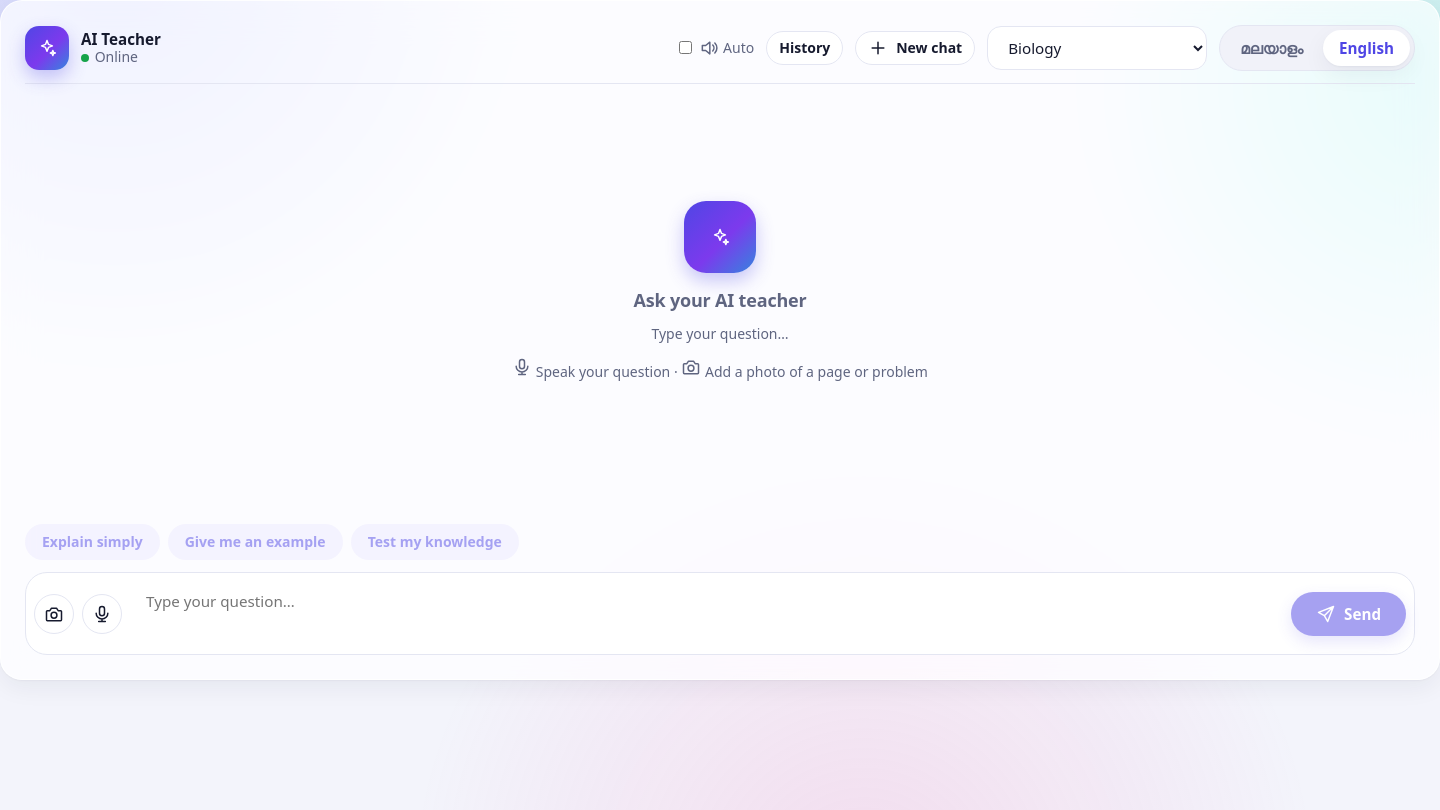
AI teacher streaming, photos and feedback › shows the answer as it streams, then the final reply, and sends a thumbs down with a reason
Type "How do plants eat?" into the text box labelled "Type your question…".
click(707, 614); type("How do plants eat?")  # box [130,581,1283,646]
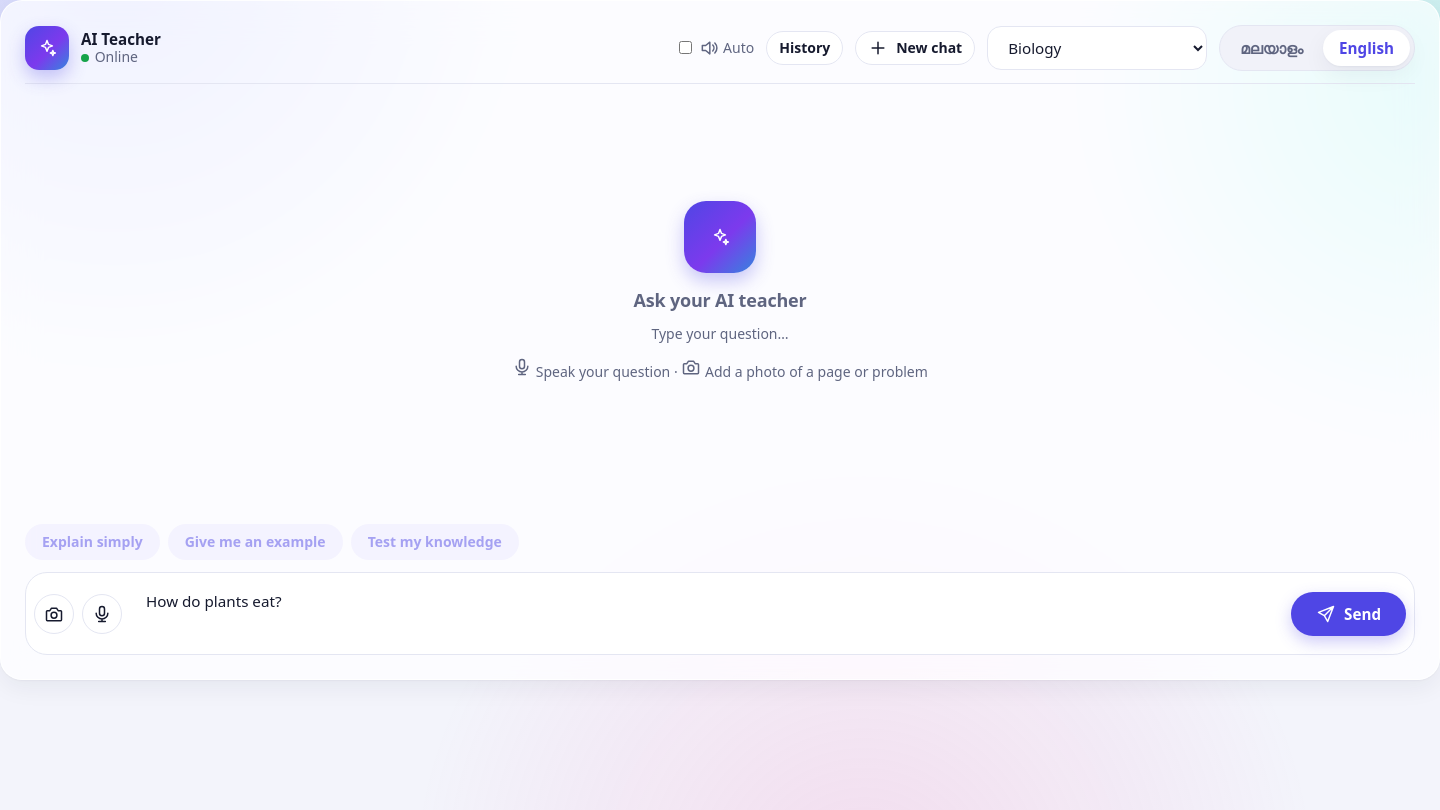
Click the button "Send".
click(1349, 614)  # box [1291,592,1406,636]
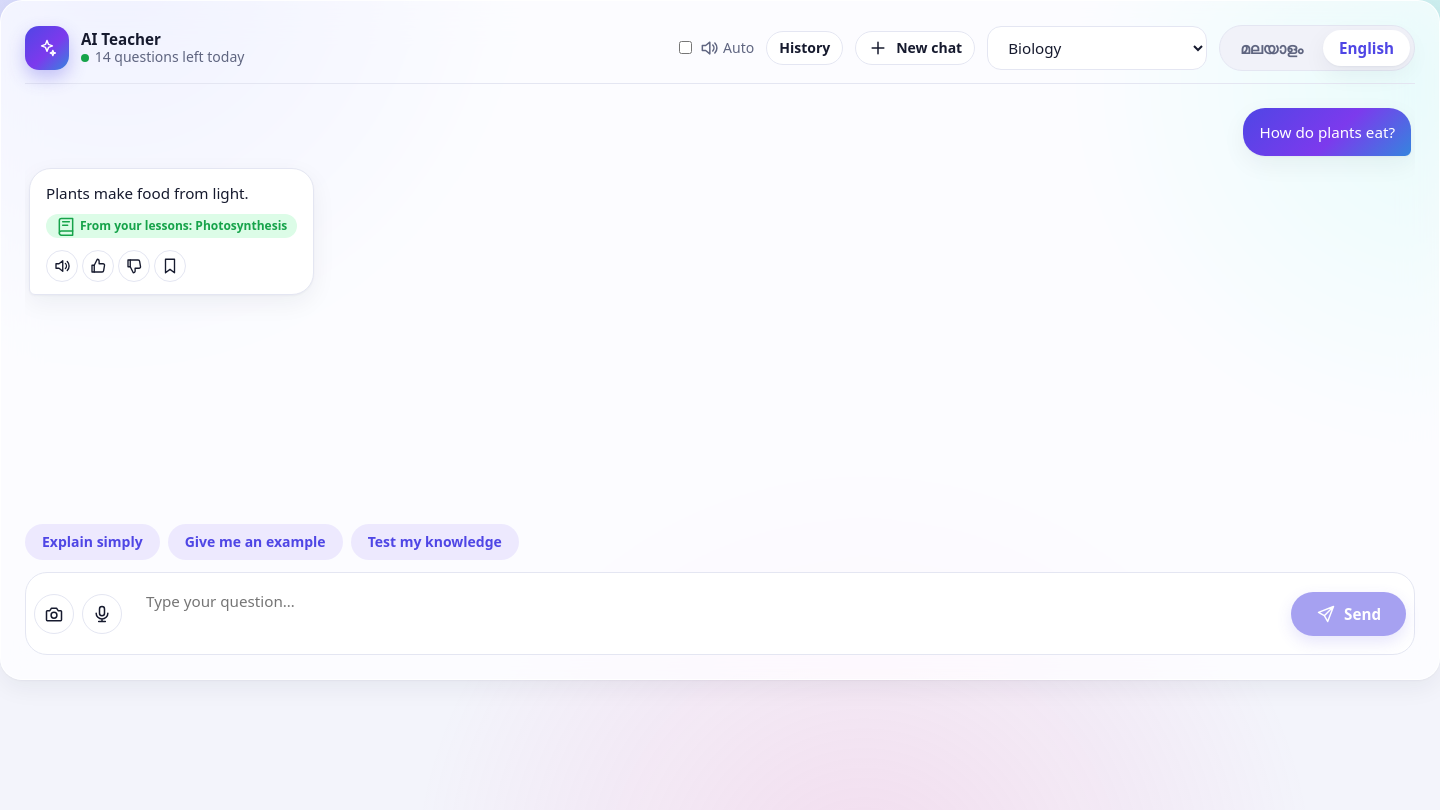
Expected: the text "Plants make food from light." is shown, [46,183,249,203]
Expected: the text "From your lessons: Photosynthesis" is shown, [46,214,297,238]
Expected: the text "14 questions left today" is shown, [81,49,244,66]
Click the button named "Not helpful".
click(134, 266)  # box [118,250,150,282]
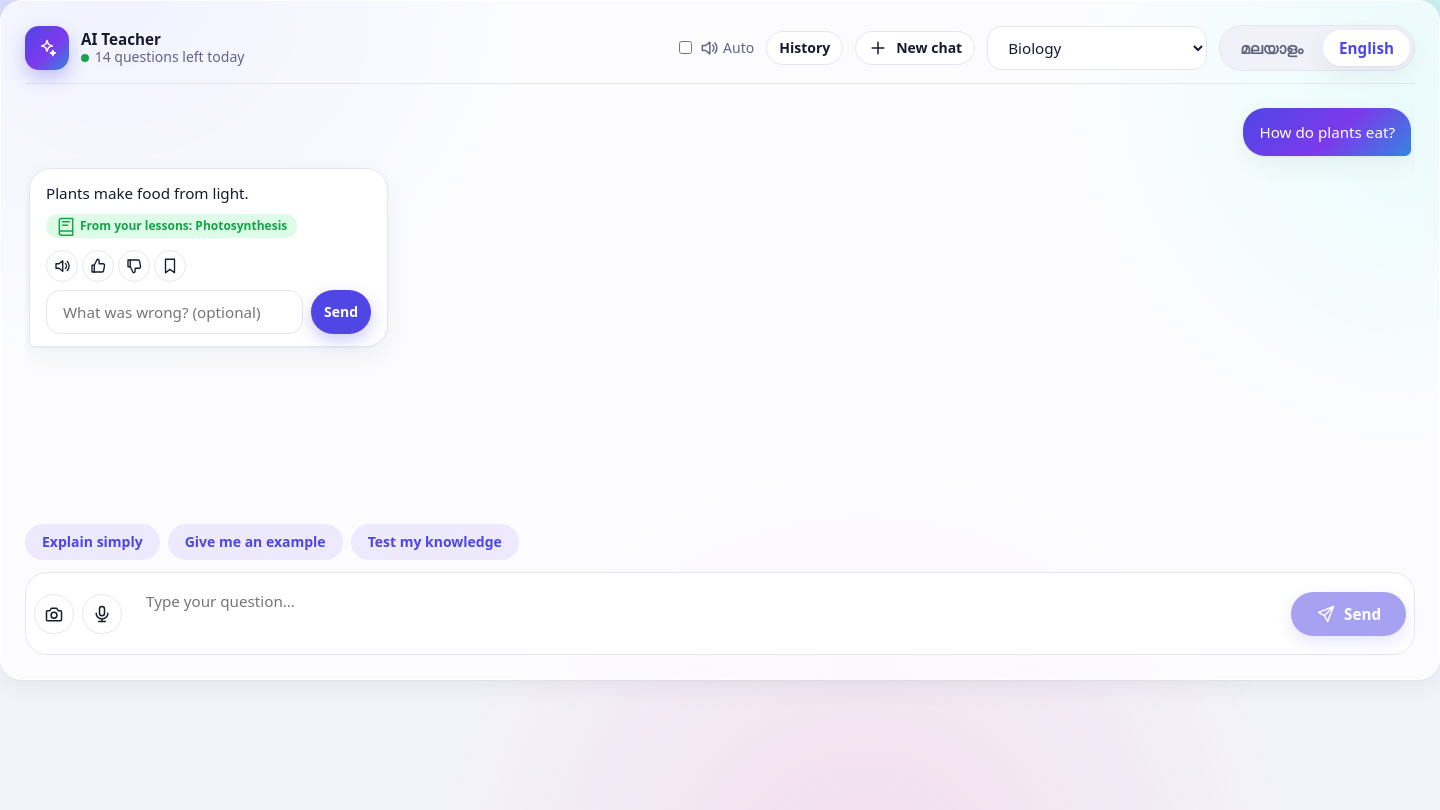
Type "Too short" into the field labelled "What was wrong? (optional)".
click(174, 312); type("Too short")  # box [46,290,303,334]
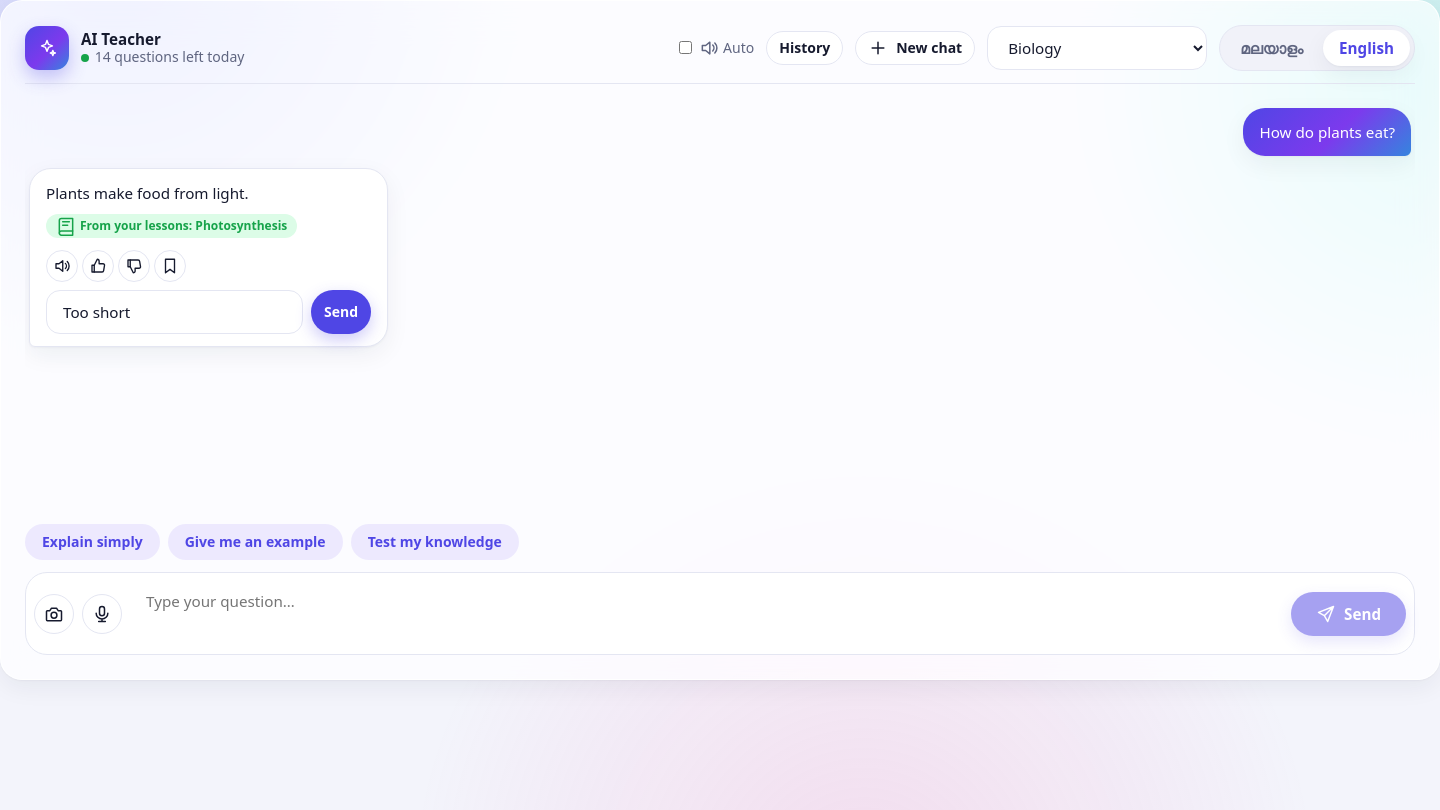
Click the button "Send" below "From your lessons".
click(341, 312)  # box [311,290,371,334]
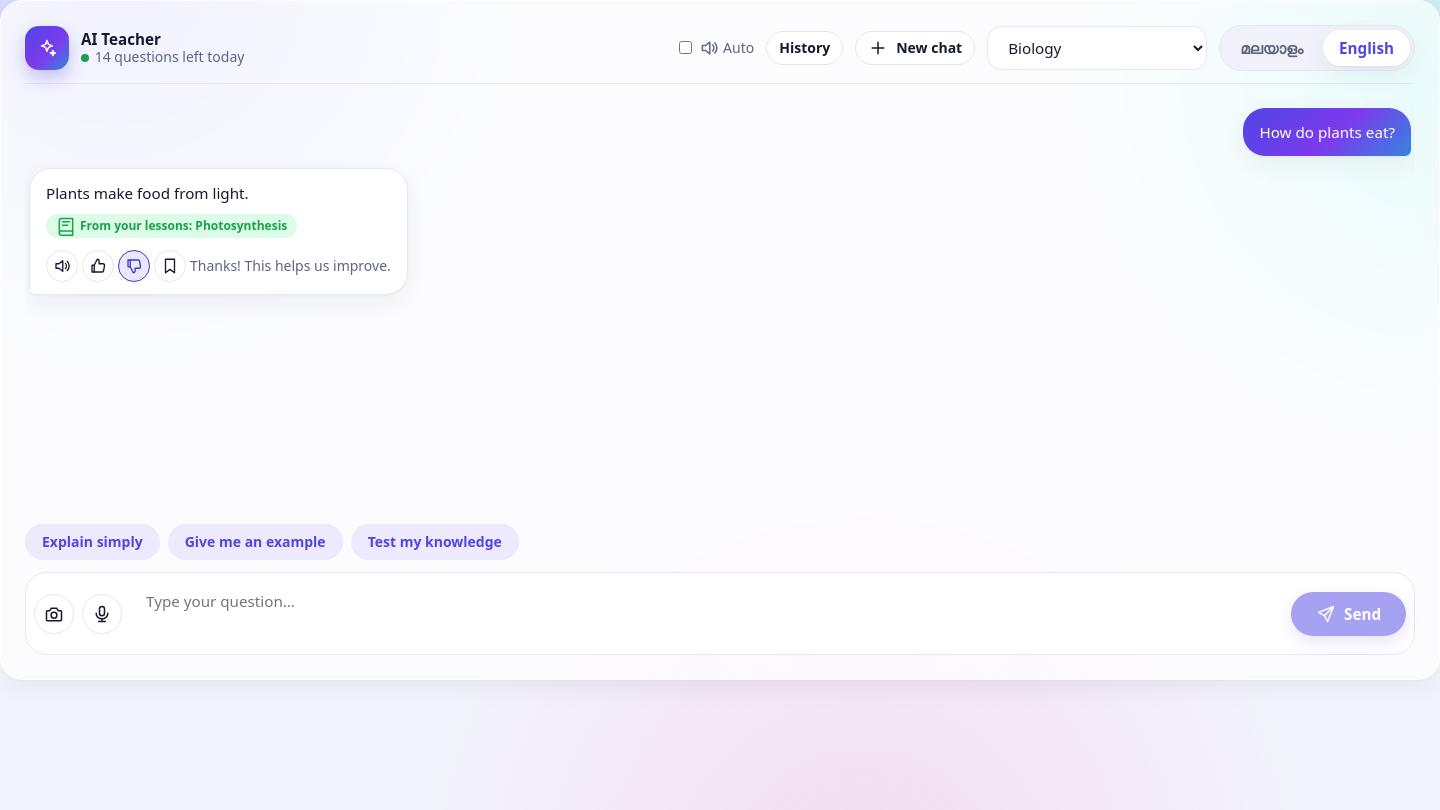
Expected: the text "Thanks! This helps us improve." is shown, [190,255,391,277]
